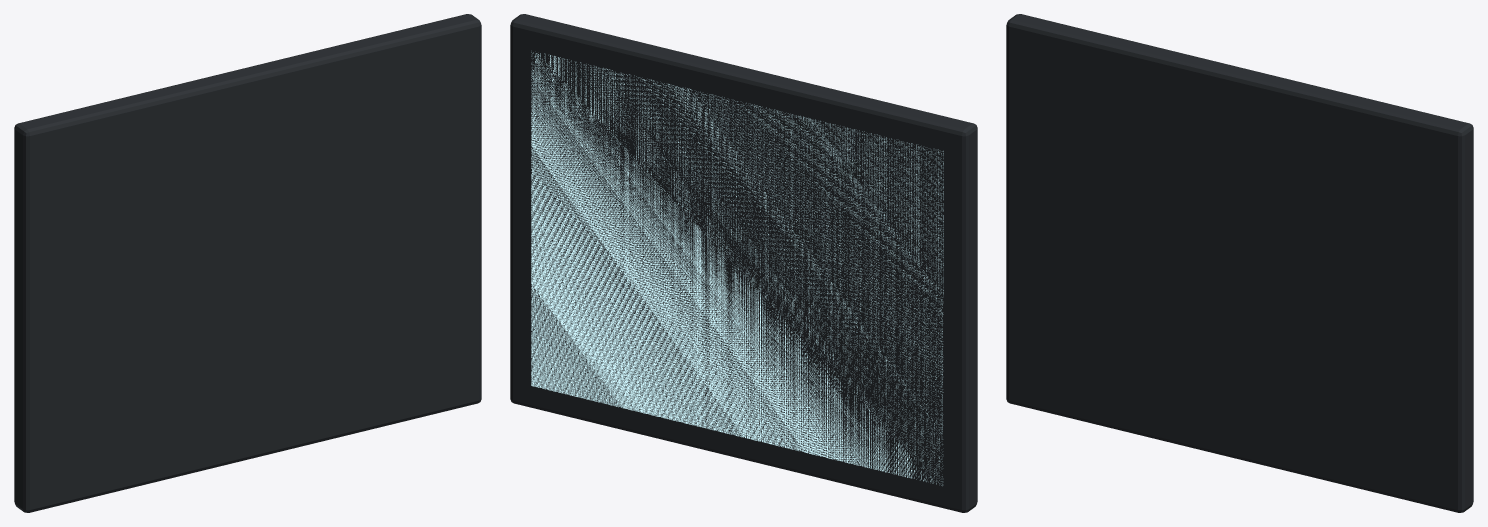
Rendered from glazing.glb.
3 renders of one model, left to right at view 1: azimuth 30°, elevation 25°; view 2: azimuth 150°, elevation 25°; view 3: azimuth 330°, elevation 25°, orthographic.
Parts seen in each view (by area): view 1: frame; view 2: frame, pane; view 3: frame.
Boxes of the visible parts, box(x1,y1,x2,y2) form: frame: box(14, 14, 481, 512); frame: box(510, 14, 977, 512); pane: box(531, 52, 943, 485); frame: box(1006, 14, 1473, 512).
Size of the model in its own units: 1 by 0.8 by 0.05.
